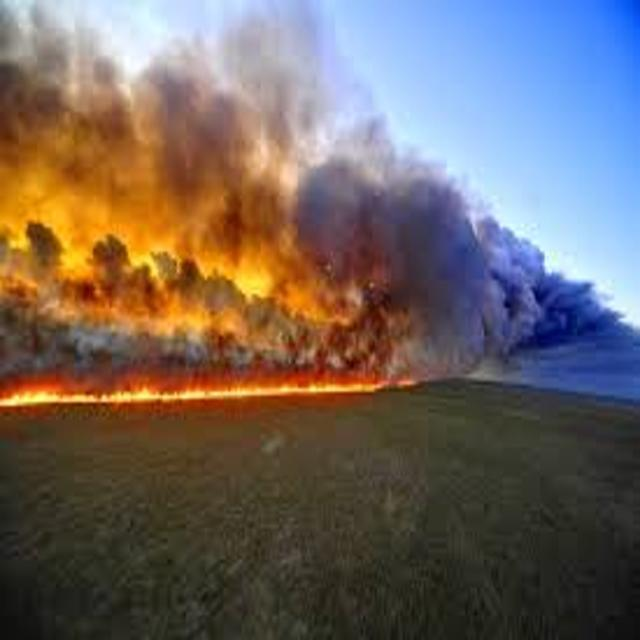Fire: (0, 371, 429, 414)
Smoke: (0, 62, 300, 366), (309, 170, 635, 368)
